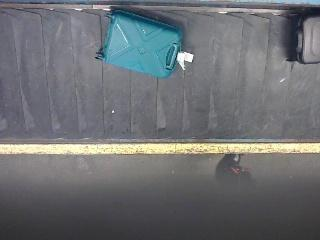Suitcase: (96, 10, 194, 78)
